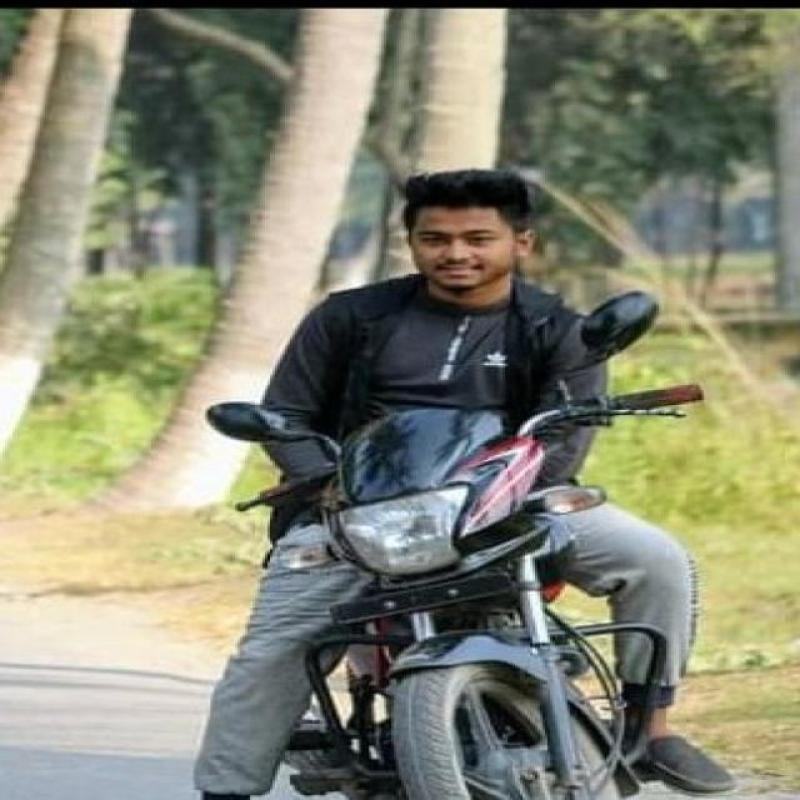nohelmet: (378, 158, 546, 306)
